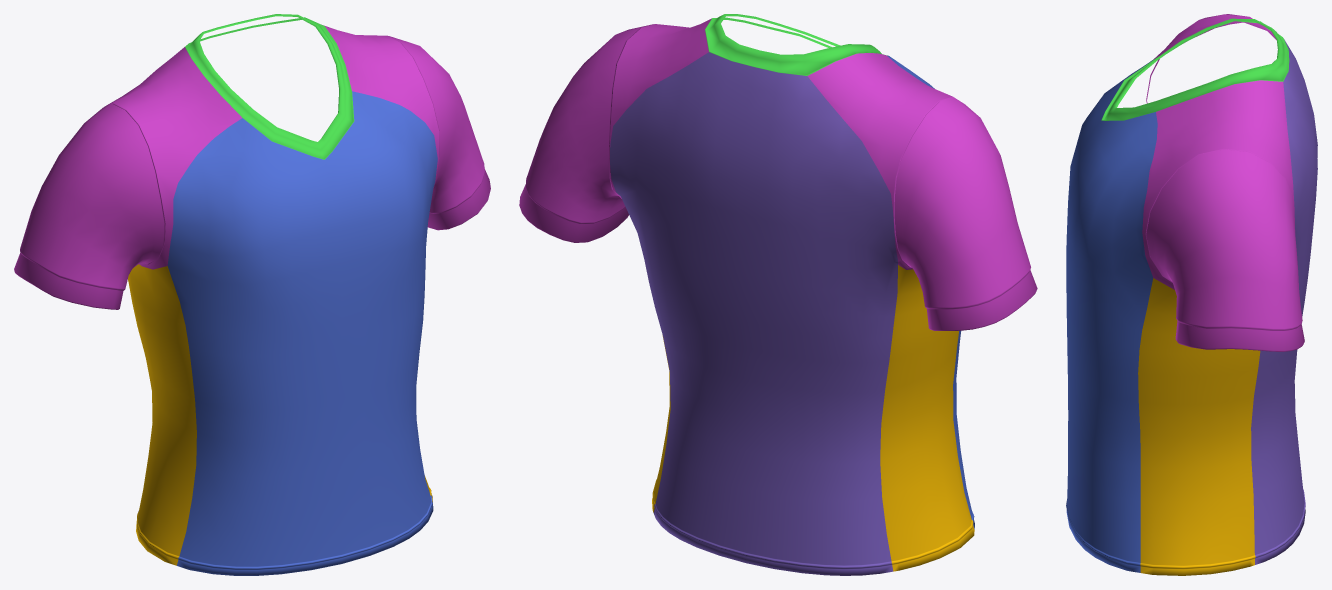
The model's file is Jersey_01.glb.
3 renders of one model, left to right at view 1: azimuth 30°, elevation 25°; view 2: azimuth 150°, elevation 25°; view 3: azimuth 270°, elevation 25°, orthographic. The views are drawn at different scales.
Parts seen in each view (by area): view 1: Jersey; view 2: Jersey; view 3: Jersey.
Boxes of the visible parts, x1,y1,x2,y2 form: Jersey: (14, 14, 490, 575); Jersey: (519, 14, 1037, 575); Jersey: (1066, 14, 1317, 575).
Bounding box in the file's own units: 0.7526 × 0.7392 × 0.3593.
